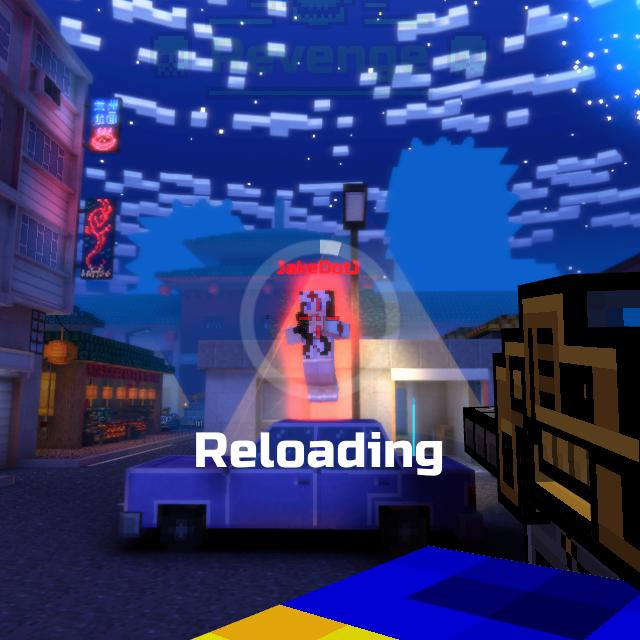Enemy: (284, 290, 350, 402)
